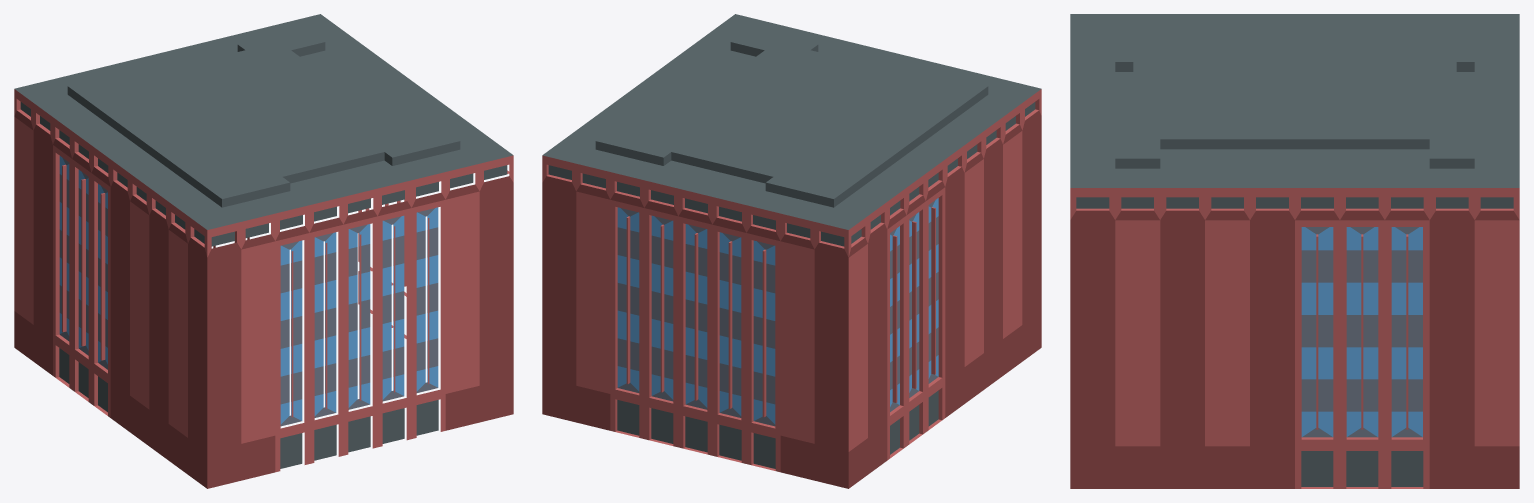
Rendered from bobst-library.glb.
The picture shows the model from 3 angles, left to right: view 1: azimuth 30°, elevation 25°; view 2: azimuth 150°, elevation 25°; view 3: azimuth 270°, elevation 25°; orthographic projection. The views are drawn at different scales.
Parts seen in each view (by area): view 1: Bobst_Bobst_Back_Facade, Bobst_Object_168, Bobst_Object_170, Bobst_Object_169, Bobst_Object_171, Bobst_Object_172; view 2: Bobst_Object_168, Bobst_Object_170, Bobst_Object_169, Bobst_Object_171, Bobst_Object_172; view 3: Bobst_Object_168, Bobst_Object_169, Bobst_Object_170, Bobst_Object_172, Bobst_Object_171.
Part boxes in pixels (bbox=[...]): Bobst_Bobst_Back_Facade: bbox=[207, 155, 513, 488]; Bobst_Object_168: bbox=[14, 14, 513, 412]; Bobst_Object_170: bbox=[14, 89, 509, 437]; Bobst_Object_169: bbox=[14, 110, 207, 488]; Bobst_Object_171: bbox=[59, 157, 107, 369]; Bobst_Object_172: bbox=[59, 156, 107, 364]; Bobst_Object_168: bbox=[542, 14, 1041, 468]; Bobst_Object_170: bbox=[542, 89, 1041, 472]; Bobst_Object_169: bbox=[542, 110, 1041, 488]; Bobst_Object_171: bbox=[617, 200, 938, 426]; Bobst_Object_172: bbox=[617, 198, 938, 424]; Bobst_Object_168: bbox=[1070, 14, 1519, 486]; Bobst_Object_169: bbox=[1070, 210, 1519, 488]; Bobst_Object_170: bbox=[1070, 188, 1519, 488]; Bobst_Object_172: bbox=[1301, 227, 1422, 436]; Bobst_Object_171: bbox=[1301, 227, 1422, 437].
Bounding box in the file's own units: 33.59 × 28 × 36.67.
